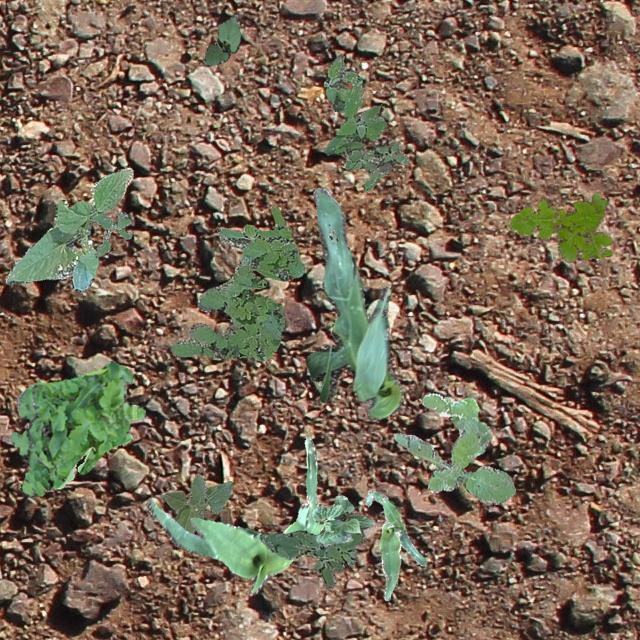crop: (144, 436, 322, 592), (304, 186, 402, 420), (5, 167, 132, 290), (364, 488, 426, 600), (162, 472, 232, 532), (311, 494, 374, 544), (202, 14, 240, 64)
weed: (170, 204, 302, 360), (10, 359, 144, 496), (394, 392, 514, 504), (322, 52, 408, 190), (506, 192, 612, 262), (258, 530, 364, 590), (88, 210, 130, 256)
